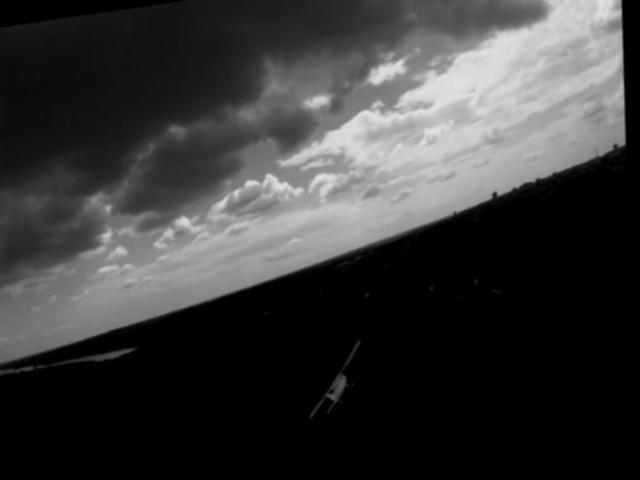hedef: (301, 334, 381, 441)
